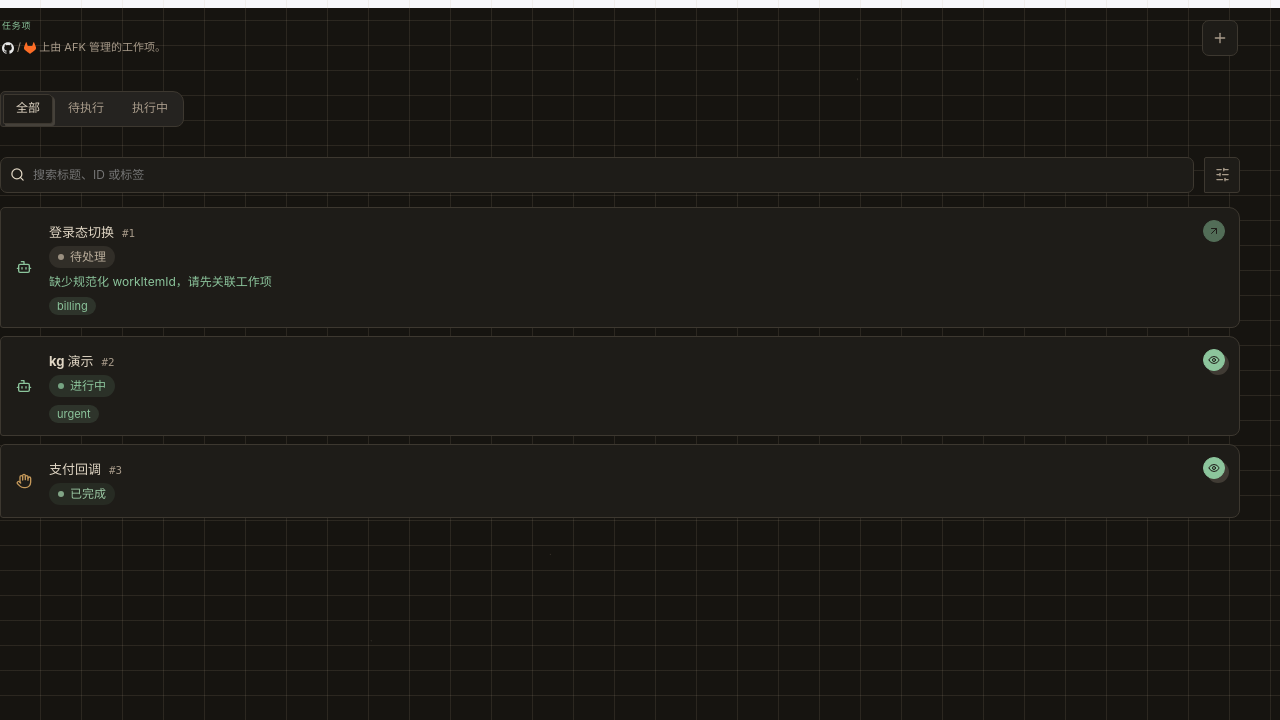
Test: BacklogPage write operations › opens the create modal when the 新建 Backlog button is clicked
Click the button named "新建 Backlog" at (1220, 38), box top-left (1202, 20), bottom-right (1238, 56)
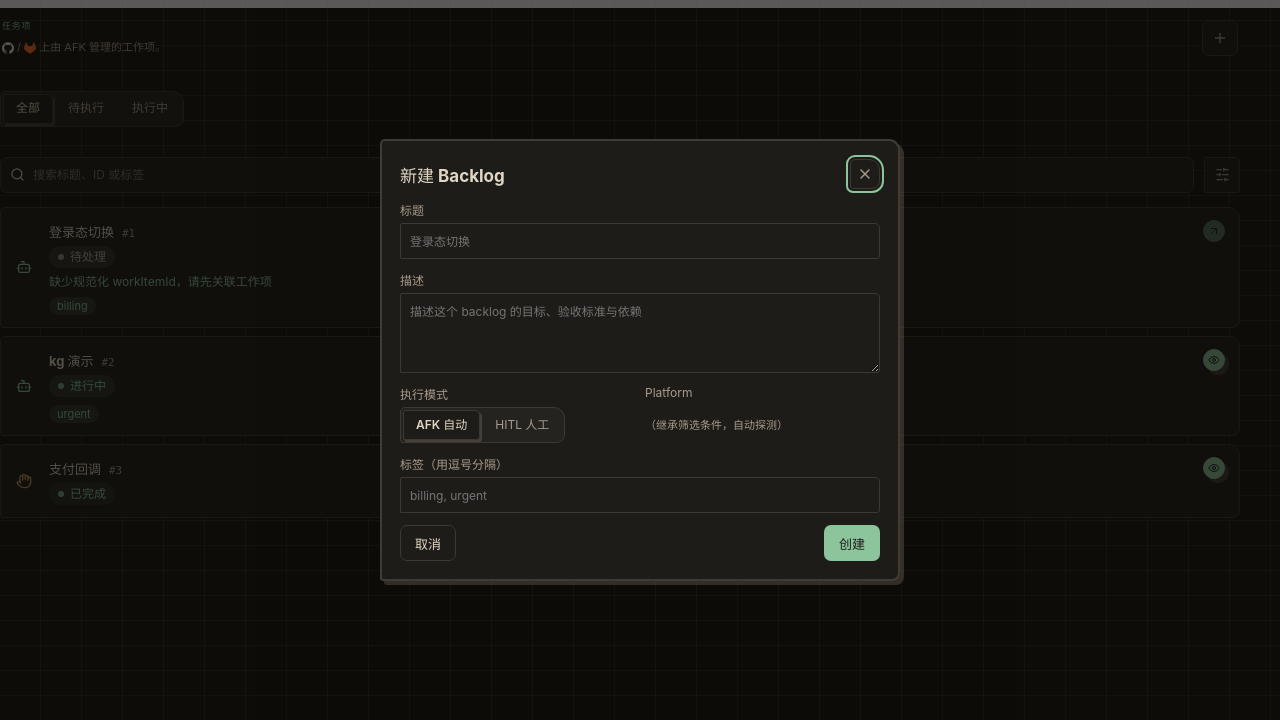
Expected: the heading "新建 Backlog" is shown, top-left (400, 162), bottom-right (505, 186)
